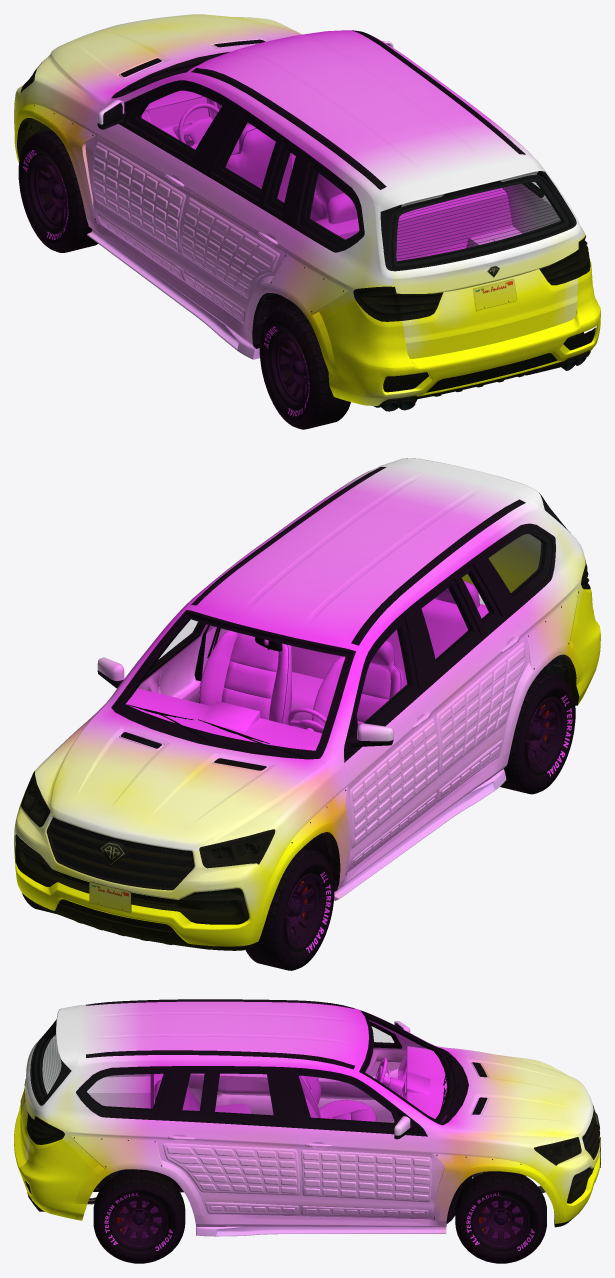
Rendered from xls2.glb.
3 views of the same model, one above another, from view 1: azimuth 30°, elevation 25°; view 2: azimuth 150°, elevation 25°; view 3: azimuth 270°, elevation 25° (orthographic). The views are drawn at different scales.
Parts seen in each view (by area): view 1: bodyshell, boot, chassis, bumper_r, door_dside_r, door_dside_f, bonnet, windscreen_r, wheel_lr, wheel_lf, wing_lf, window_lf (+5 smaller); view 2: bodyshell, chassis, bonnet, bumper_f, door_dside_r, door_dside_f, wheel_lf, wheel_lr, wing_lf, window_lf, boot, door_pside_f (+4 smaller); view 3: bodyshell, door_pside_r, door_pside_f, chassis, bonnet, wheel_rr, wheel_rf, wing_rf, bumper_r, window_rf, boot, window_rr (+6 smaller).
Boxes of the visible parts, left/top/right/bottom form: bodyshell: left=20, top=30, right=590, bottom=359; boot: left=380, top=158, right=578, bottom=358; chassis: left=115, top=59, right=586, bottom=411; bumper_r: left=314, top=260, right=600, bottom=407; door_dside_r: left=181, top=103, right=305, bottom=326; door_dside_f: left=92, top=80, right=236, bottom=283; bonnet: left=35, top=14, right=301, bottom=104; windscreen_r: left=391, top=176, right=573, bottom=269; wheel_lr: left=259, top=305, right=350, bottom=429; wheel_lf: left=18, top=130, right=97, bottom=252; wing_lf: left=18, top=75, right=116, bottom=225; window_lf: left=128, top=85, right=225, bottom=159; bodyshell: left=21, top=464, right=590, bottom=900; chassis: left=49, top=528, right=570, bottom=891; bonnet: left=35, top=707, right=327, bottom=851; bumper_f: left=14, top=806, right=279, bottom=950; door_dside_r: left=411, top=556, right=526, bottom=804; door_dside_f: left=344, top=606, right=439, bottom=871; wheel_lf: left=245, top=848, right=334, bottom=970; wheel_lr: left=500, top=671, right=575, bottom=794; wing_lf: left=259, top=747, right=351, bottom=882; window_lf: left=355, top=618, right=417, bottom=725; boot: left=385, top=458, right=570, bottom=593; door_pside_f: left=97, top=622, right=207, bottom=702; bodyshell: left=31, top=999, right=599, bottom=1236; door_pside_r: left=160, top=1066, right=300, bottom=1216; door_pside_f: left=280, top=1067, right=433, bottom=1219; chassis: left=28, top=1011, right=598, bottom=1223; bonnet: left=443, top=1047, right=593, bottom=1145; wheel_rr: left=93, top=1170, right=185, bottom=1263; wheel_rf: left=455, top=1171, right=546, bottom=1263; wing_rf: left=421, top=1121, right=555, bottom=1220; bumper_r: left=14, top=1105, right=102, bottom=1220; window_rf: left=292, top=1071, right=398, bottom=1129; boot: left=20, top=1005, right=78, bottom=1161; window_rr: left=210, top=1070, right=278, bottom=1122.
Bounding box in the file's own units: 2.17 × 1.81 × 4.98.
18 materials, 13 textured.
